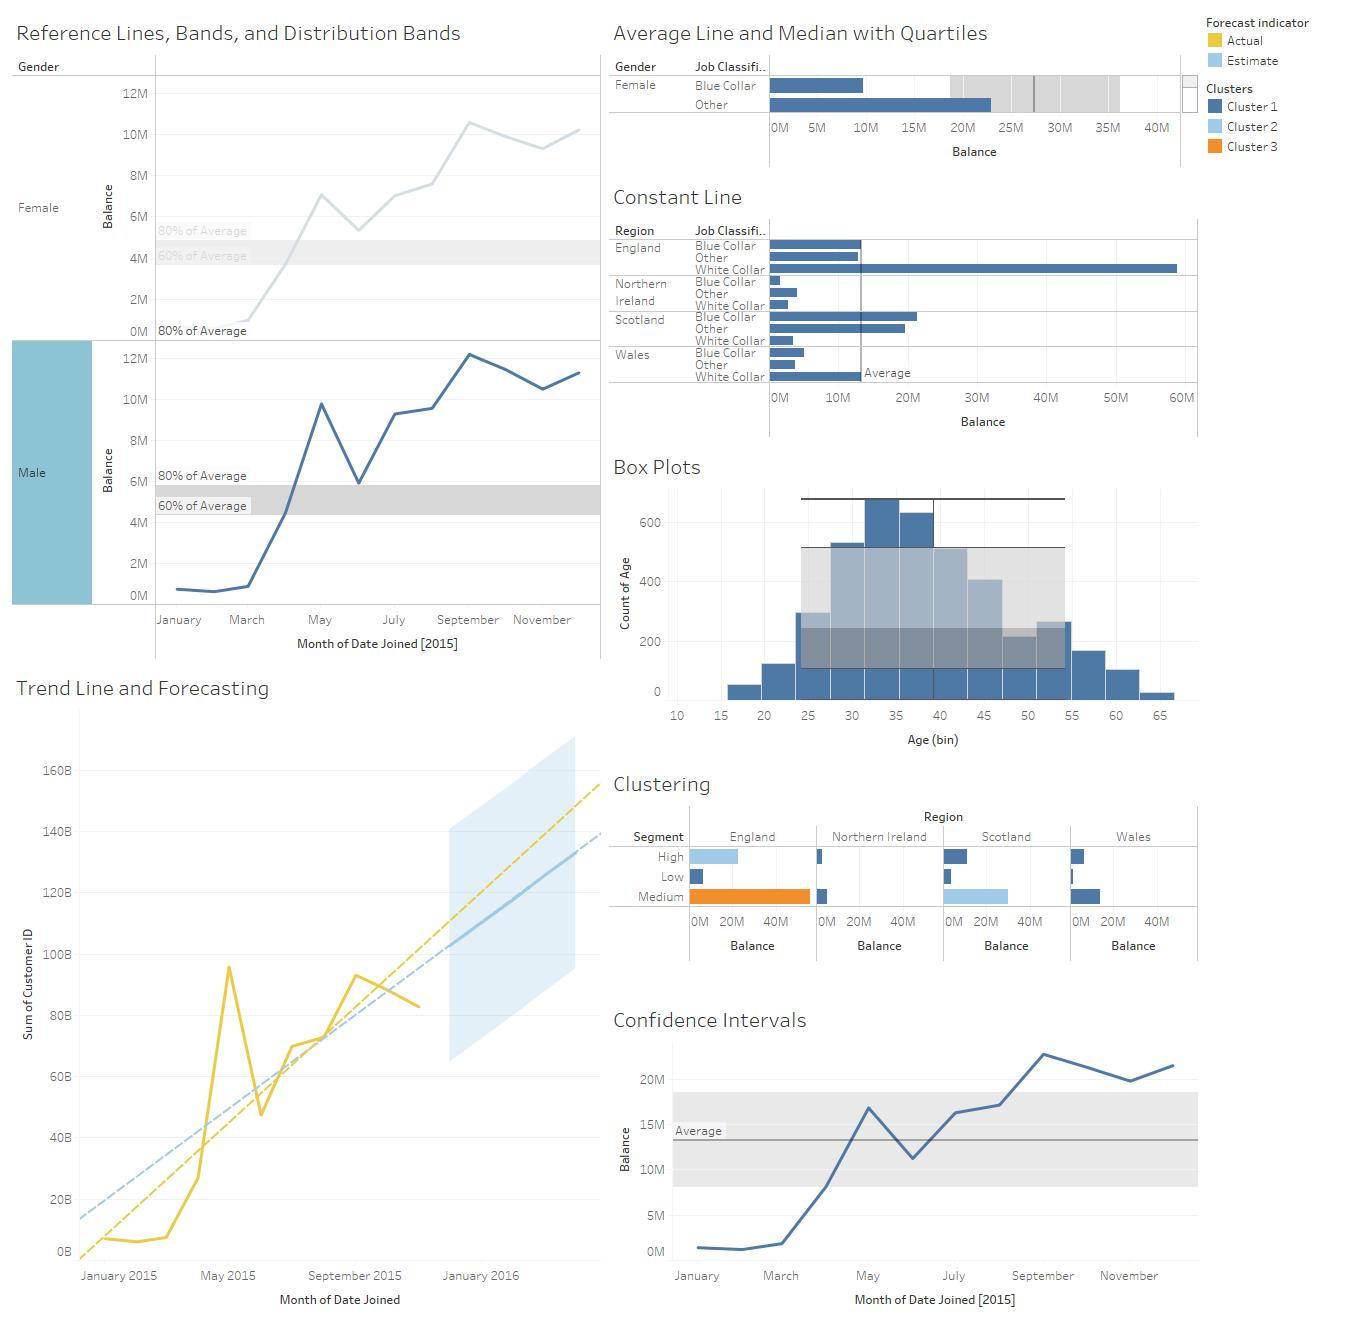

The dashboard page shown, as its layout file describes it:
{"tool":"tableau","page":{"name":"Dashboard 1","canvas":[1369,1327],"ordinal":0},"visuals":[{"type":"worksheet","title":"Reference Lines, Bands, and Distribution Bands","mark":"Automatic","rows":["Gender","Balance"],"cols":["Date Joined"],"box":[8,8,596.5,655.5]},{"type":"worksheet","title":"Average Line and Median with Quartiles","mark":"Automatic","rows":["Gender","Job Classification"],"cols":["Balance"],"box":[604.5,8,596.5,163.9]},{"type":"legend","title":"Trend Line and Forecasting","param":"[federated.17siyig16pvunl13st6ar0u6olpj].[none:Forecast Indicator:nk]","box":[1201,8,160,66]},{"type":"legend","title":"Clustering","param":"[federated.17siyig16pvunl13st6ar0u6olpj].[none:AdhocCluster:1:ok]","box":[1201,74,160,86]},{"type":"worksheet","title":"Constant Line","mark":"Automatic","rows":["Region","Job Classification"],"cols":["Balance"],"box":[604.5,171.9,596.5,270.1]},{"type":"worksheet","title":"Box Plots","mark":"Automatic","rows":["Age"],"cols":["Age (bin)"],"box":[604.5,442,596.5,317]},{"type":"worksheet","title":"Trend Line and Forecasting","mark":"Automatic","rows":["Customer ID"],"cols":["Date Joined"],"box":[8,663.5,596.5,655.5]},{"type":"worksheet","title":"Clustering","mark":"Automatic","rows":["Calculation_1997627932703424512"],"cols":["Region","Balance"],"box":[604.5,759,596.5,236]},{"type":"worksheet","title":"Confidence Intervals","mark":"Automatic","rows":["Balance"],"cols":["Date Joined"],"box":[604.5,995,596.5,324]}]}

Visuals, with their boxes in screenshot pixels (x1, y1, x2, y2), scaled from the page's 1369x1327 canvas onto the 1369x1327 screenshot:
"Reference Lines, Bands, and Distribution Bands" worksheet: box=[8, 8, 604, 664]
"Average Line and Median with Quartiles" worksheet: box=[604, 8, 1201, 172]
"Trend Line and Forecasting" legend: box=[1201, 8, 1361, 74]
"Clustering" legend: box=[1201, 74, 1361, 160]
"Constant Line" worksheet: box=[604, 172, 1201, 442]
"Box Plots" worksheet: box=[604, 442, 1201, 759]
"Trend Line and Forecasting" worksheet: box=[8, 664, 604, 1319]
"Clustering" worksheet: box=[604, 759, 1201, 995]
"Confidence Intervals" worksheet: box=[604, 995, 1201, 1319]
